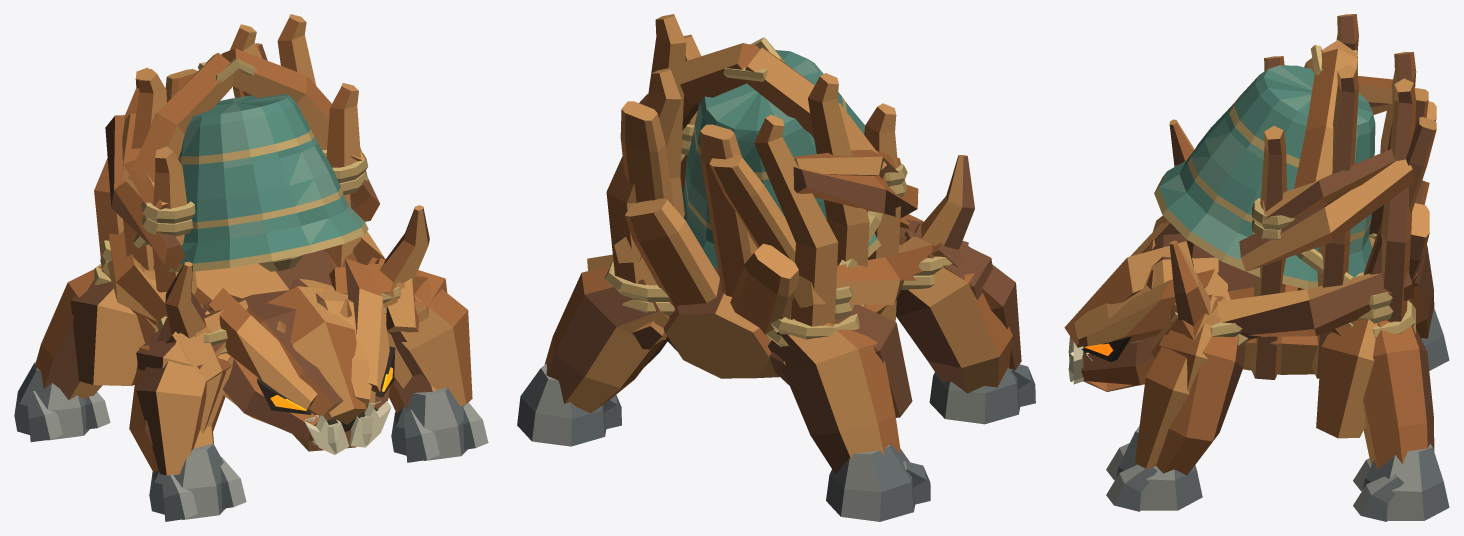
The model's file is bellback-complete-character-pass.glb.
The picture shows the model from 3 angles, left to right: view 1: azimuth 30°, elevation 25°; view 2: azimuth 150°, elevation 25°; view 3: azimuth 270°, elevation 25°; orthographic projection. The views are drawn at different scales.
Parts seen in each view (by area): view 1: Hollow cast bell, Left fore outer timber shield, Left hind shoulder cap, Pointed central face keel, Right fore outer timber shield, Solid timber cranium, Shaped orbital brow timber, Arch left, Barrel timber hull, Arch right, Left hind timber leg, Shaped orbital brow timber.001 (+36 smaller); view 2: Left hind timber leg, Right hind timber leg, Left fore timber leg, Hollow cast bell, Broken ship rib -1 2, Barrel timber hull, Stern fan broad plank 1, Left hind stone foot, Broken ship rib -1 1, Tall stern plank, Right hind stone foot, Lower broken side strake -1 (+20 smaller); view 3: Hollow cast bell, Right hind timber leg, Lower broken side strake 1, Right fore timber leg, Middle broken side strake 1, Right hind shoulder cap, Broken ship rib 1 2, Right fore outer timber shield, Broken ship rib 1 1, Arch right, Right hind stone foot, Broken ship rib 1 0 (+28 smaller).
Part boxes in pixels (x1=…): Hollow cast bell: x1=153, y1=94, x2=368, y2=271; Left fore outer timber shield: x1=136, y1=318, x2=206, y2=475; Left hind shoulder cap: x1=70, y1=269, x2=144, y2=385; Pointed central face keel: x1=267, y1=286, x2=365, y2=424; Right fore outer timber shield: x1=396, y1=270, x2=472, y2=406; Solid timber cranium: x1=242, y1=278, x2=371, y2=420; Shaped orbital brow timber: x1=208, y1=288, x2=317, y2=410; Arch left: x1=128, y1=53, x2=234, y2=184; Barrel timber hull: x1=144, y1=250, x2=337, y2=331; Arch right: x1=221, y1=48, x2=331, y2=150; Left hind timber leg: x1=33, y1=265, x2=102, y2=400; Shaped orbital brow timber.001: x1=345, y1=258, x2=389, y2=392; Left hind timber leg: x1=768, y1=319, x2=900, y2=474; Right hind timber leg: x1=544, y1=265, x2=669, y2=413; Left fore timber leg: x1=896, y1=267, x2=1012, y2=393; Hollow cast bell: x1=682, y1=50, x2=905, y2=268; Broken ship rib -1 2: x1=754, y1=114, x2=838, y2=326; Barrel timber hull: x1=663, y1=268, x2=887, y2=378; Stern fan broad plank 1: x1=625, y1=198, x2=719, y2=307; Left hind stone foot: x1=826, y1=444, x2=915, y2=521; Broken ship rib -1 1: x1=808, y1=73, x2=869, y2=307; Tall stern plank: x1=700, y1=124, x2=757, y2=296; Right hind stone foot: x1=517, y1=363, x2=606, y2=446; Lower broken side strake -1: x1=793, y1=236, x2=933, y2=307; Hollow cast bell: x1=1154, y1=65, x2=1375, y2=289; Right hind timber leg: x1=1363, y1=312, x2=1434, y2=468; Lower broken side strake 1: x1=1217, y1=271, x2=1414, y2=336; Right fore timber leg: x1=1156, y1=334, x2=1245, y2=475; Middle broken side strake 1: x1=1239, y1=159, x2=1414, y2=271; Right hind shoulder cap: x1=1316, y1=319, x2=1377, y2=438; Broken ship rib 1 2: x1=1381, y1=78, x2=1416, y2=322; Right fore outer timber shield: x1=1135, y1=312, x2=1220, y2=468; Broken ship rib 1 1: x1=1311, y1=64, x2=1358, y2=378; Arch right: x1=1294, y1=49, x2=1357, y2=204; Right hind stone foot: x1=1363, y1=444, x2=1449, y2=520; Broken ship rib 1 0: x1=1249, y1=126, x2=1287, y2=379.
Bounding box in the file's own units: 3.71 × 3.72 × 3.25.
